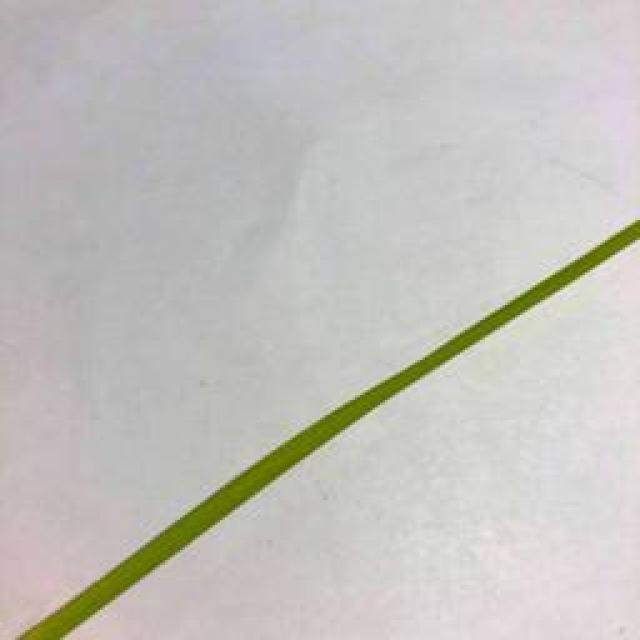Healthy-Plant: (22, 217, 640, 640)
